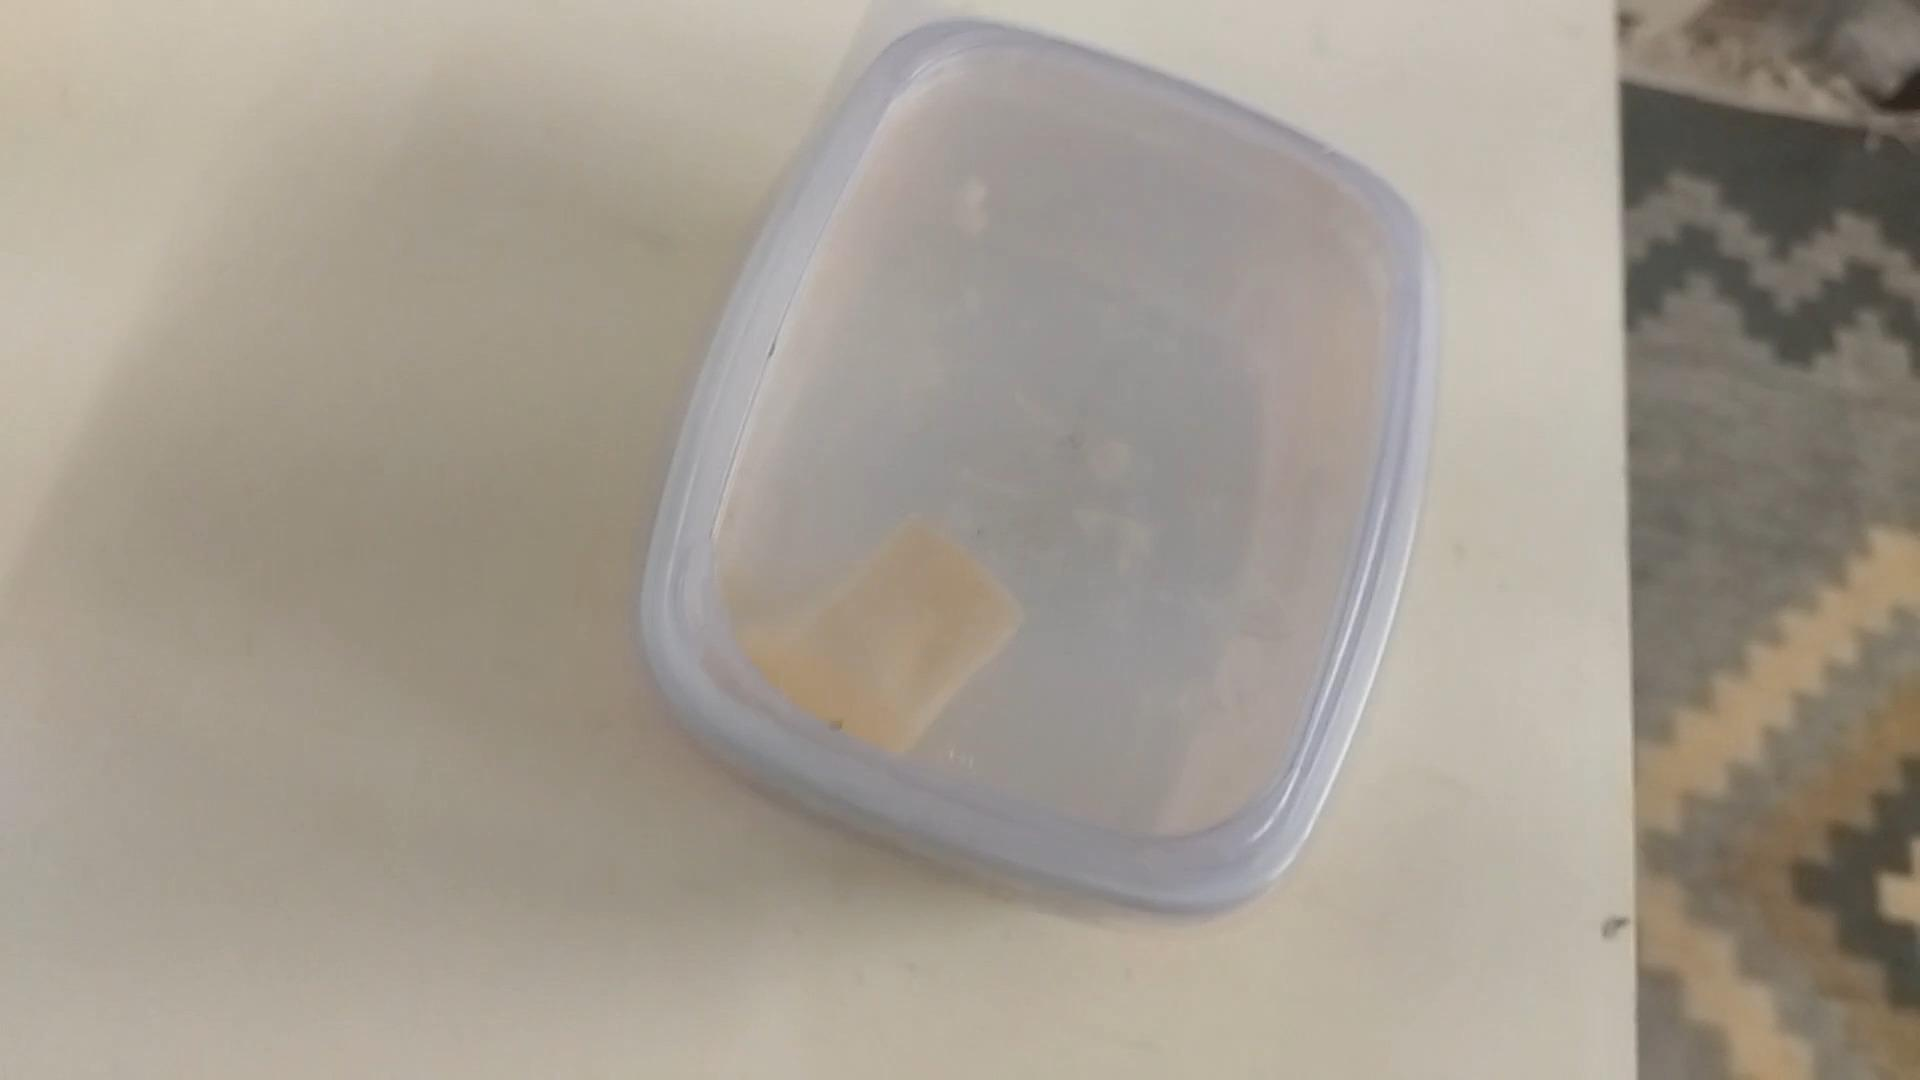butter: (633, 30, 1431, 927)
